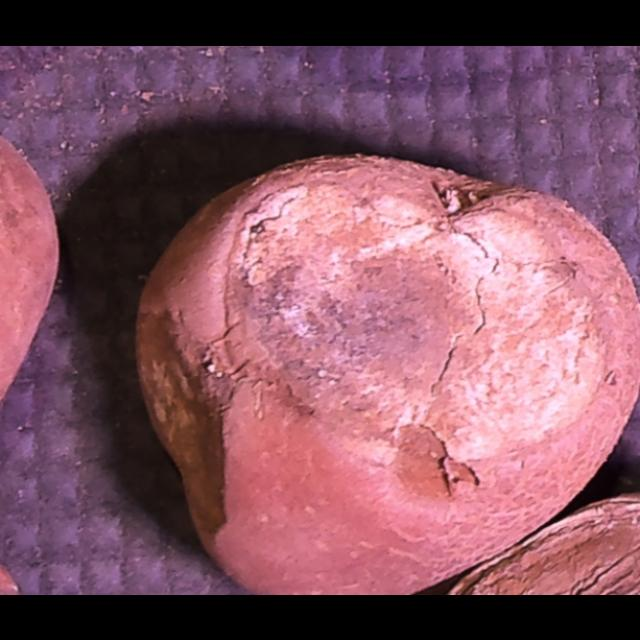Damaged potato: (130, 138, 640, 590)
